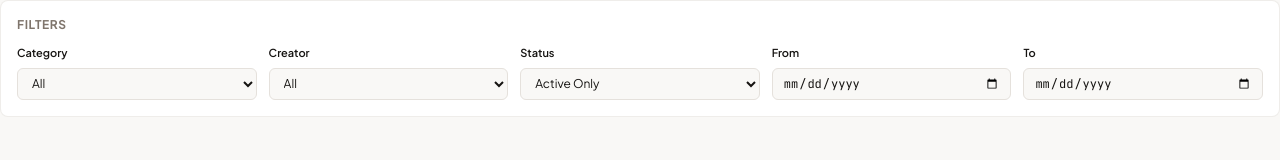
Test case: FilterBar › shows a validation message for an invalid date range
Type "2024-12-31" into the date field labelled "From". click: (892, 84)
box: [772,68,1011,100]
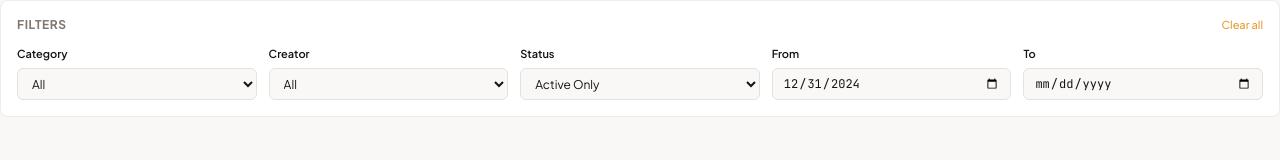
Type "2024-01-01" into the date field labelled "To". click: (1143, 84)
box: [1023,68,1263,100]
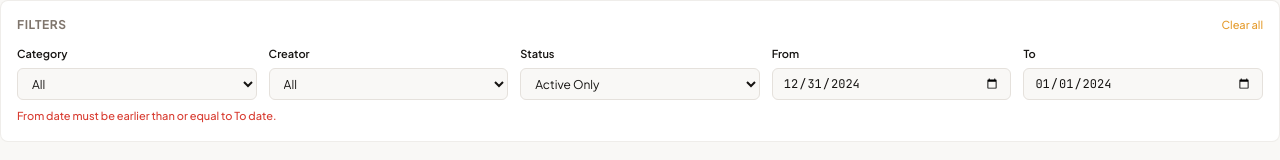
Now the text "From date must be earlier than or equal to To date." is shown, box [17,109,276,122]
